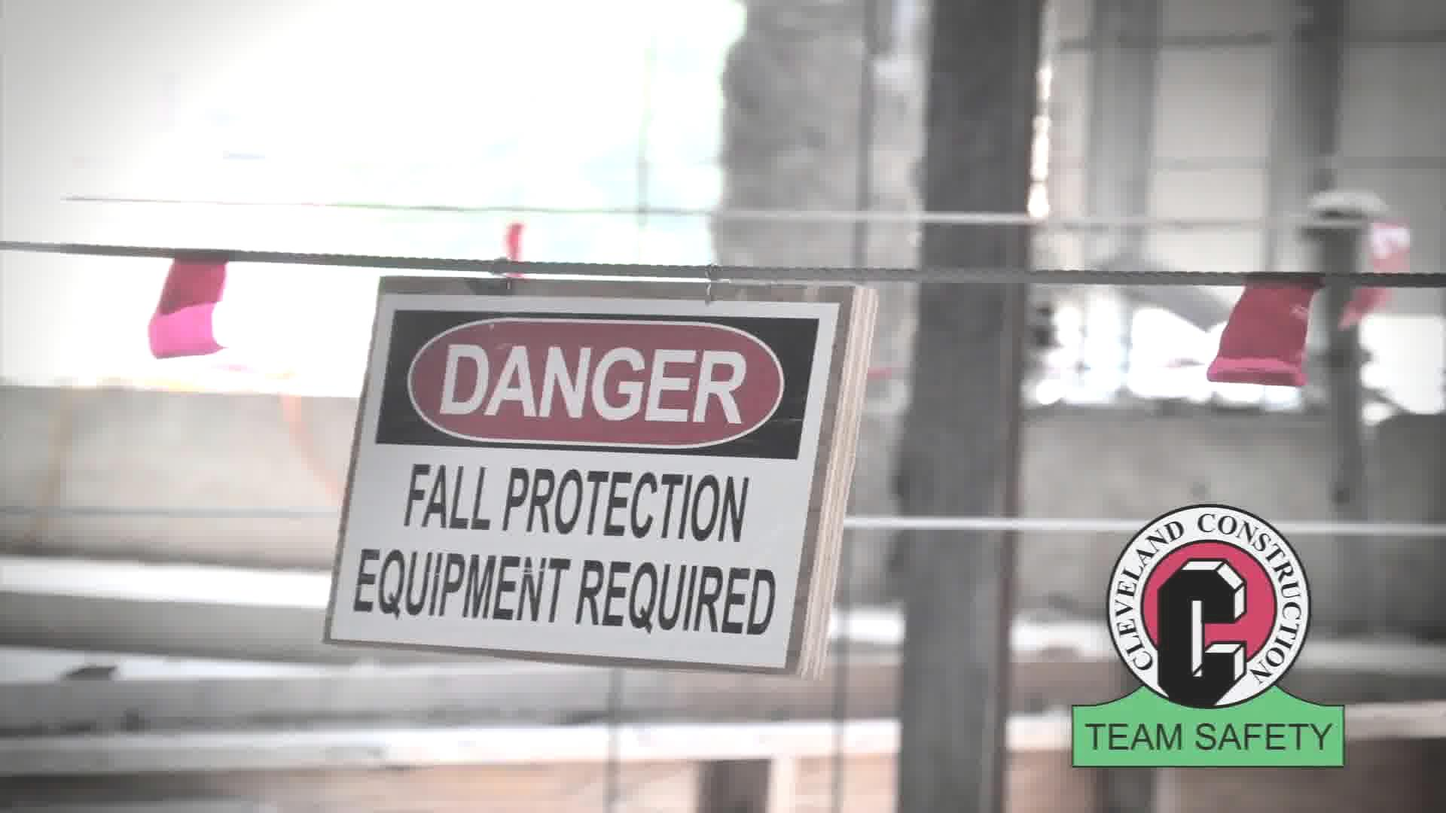safety_signage: (313, 248, 886, 693)
